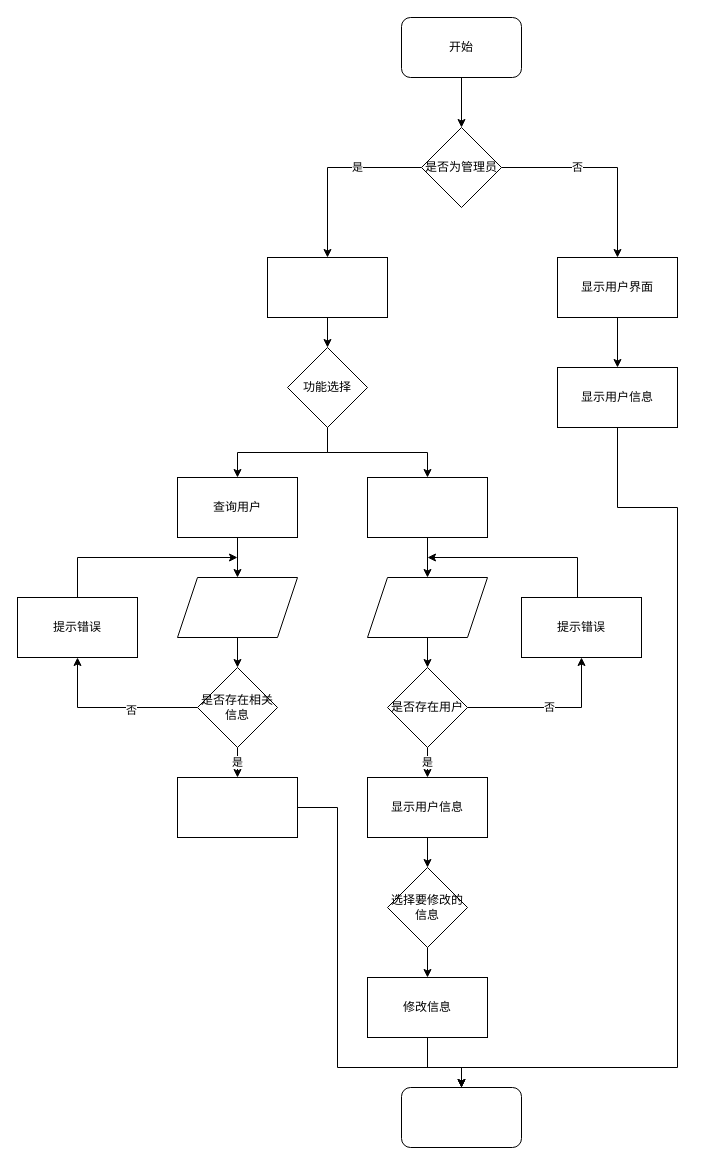
Image size: 703x1165. Some labels were removed from this diagram. The shapes that lost their labels are listed below. From the top down, each one's box as (x1, y1, x2, y2) in pixels, then its label:
(266, 256, 388, 318): 显示管理员界面
(366, 476, 488, 538): 修改用户信息
(176, 576, 298, 638): 输入用户 相关信息
(366, 576, 488, 638): 输入，选择需要修 改的用户id
(176, 776, 298, 838): 显示搜索结果
(400, 1086, 522, 1148): 结束
